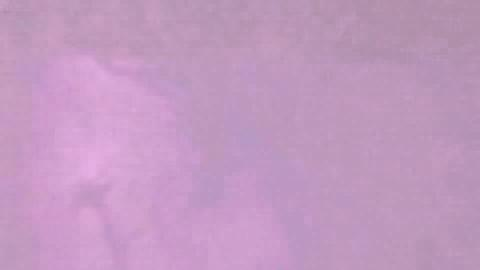tomato: (132, 111, 467, 269), (2, 112, 132, 270)
